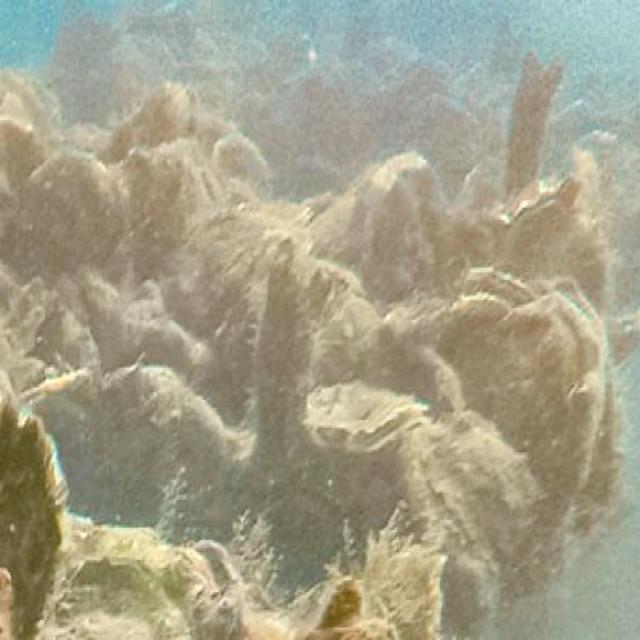Oyster-Closed: (449, 292, 598, 595), (407, 411, 524, 640), (0, 404, 63, 640), (165, 211, 284, 333), (362, 151, 447, 301), (135, 139, 211, 283), (19, 151, 119, 257), (303, 379, 424, 451), (494, 184, 577, 274), (311, 299, 385, 385), (178, 385, 227, 470), (0, 122, 52, 190), (134, 367, 183, 426)
Oyster-Open: (111, 82, 201, 164), (443, 271, 535, 347), (180, 537, 242, 637)
